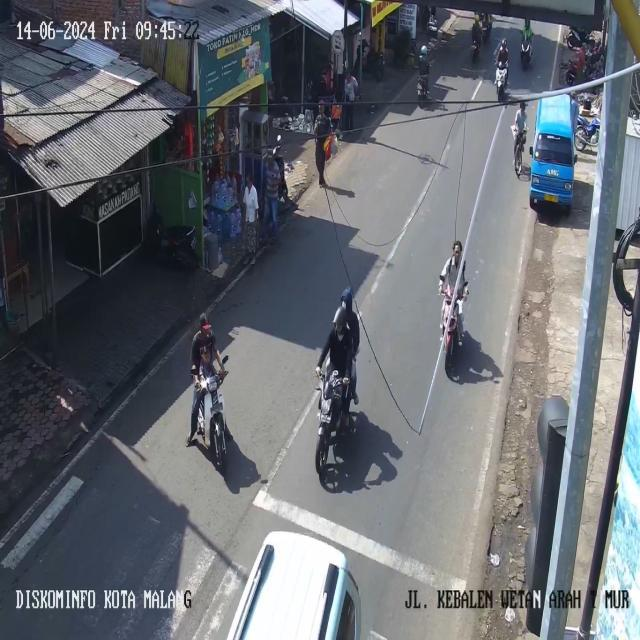Helmet: (334, 306, 346, 335), (341, 287, 352, 313), (452, 240, 462, 253), (420, 45, 427, 55), (524, 18, 529, 27), (501, 38, 506, 47), (520, 101, 525, 109)
Number Plate: (544, 194, 558, 202)
Rearview Mirror: (222, 355, 228, 363), (529, 146, 533, 156), (276, 134, 281, 141), (574, 154, 577, 163)
